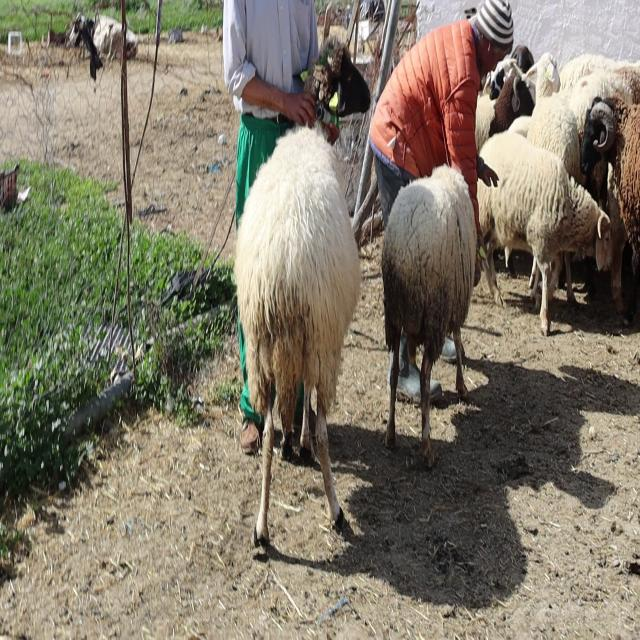Score_5: (234, 126, 362, 546)
